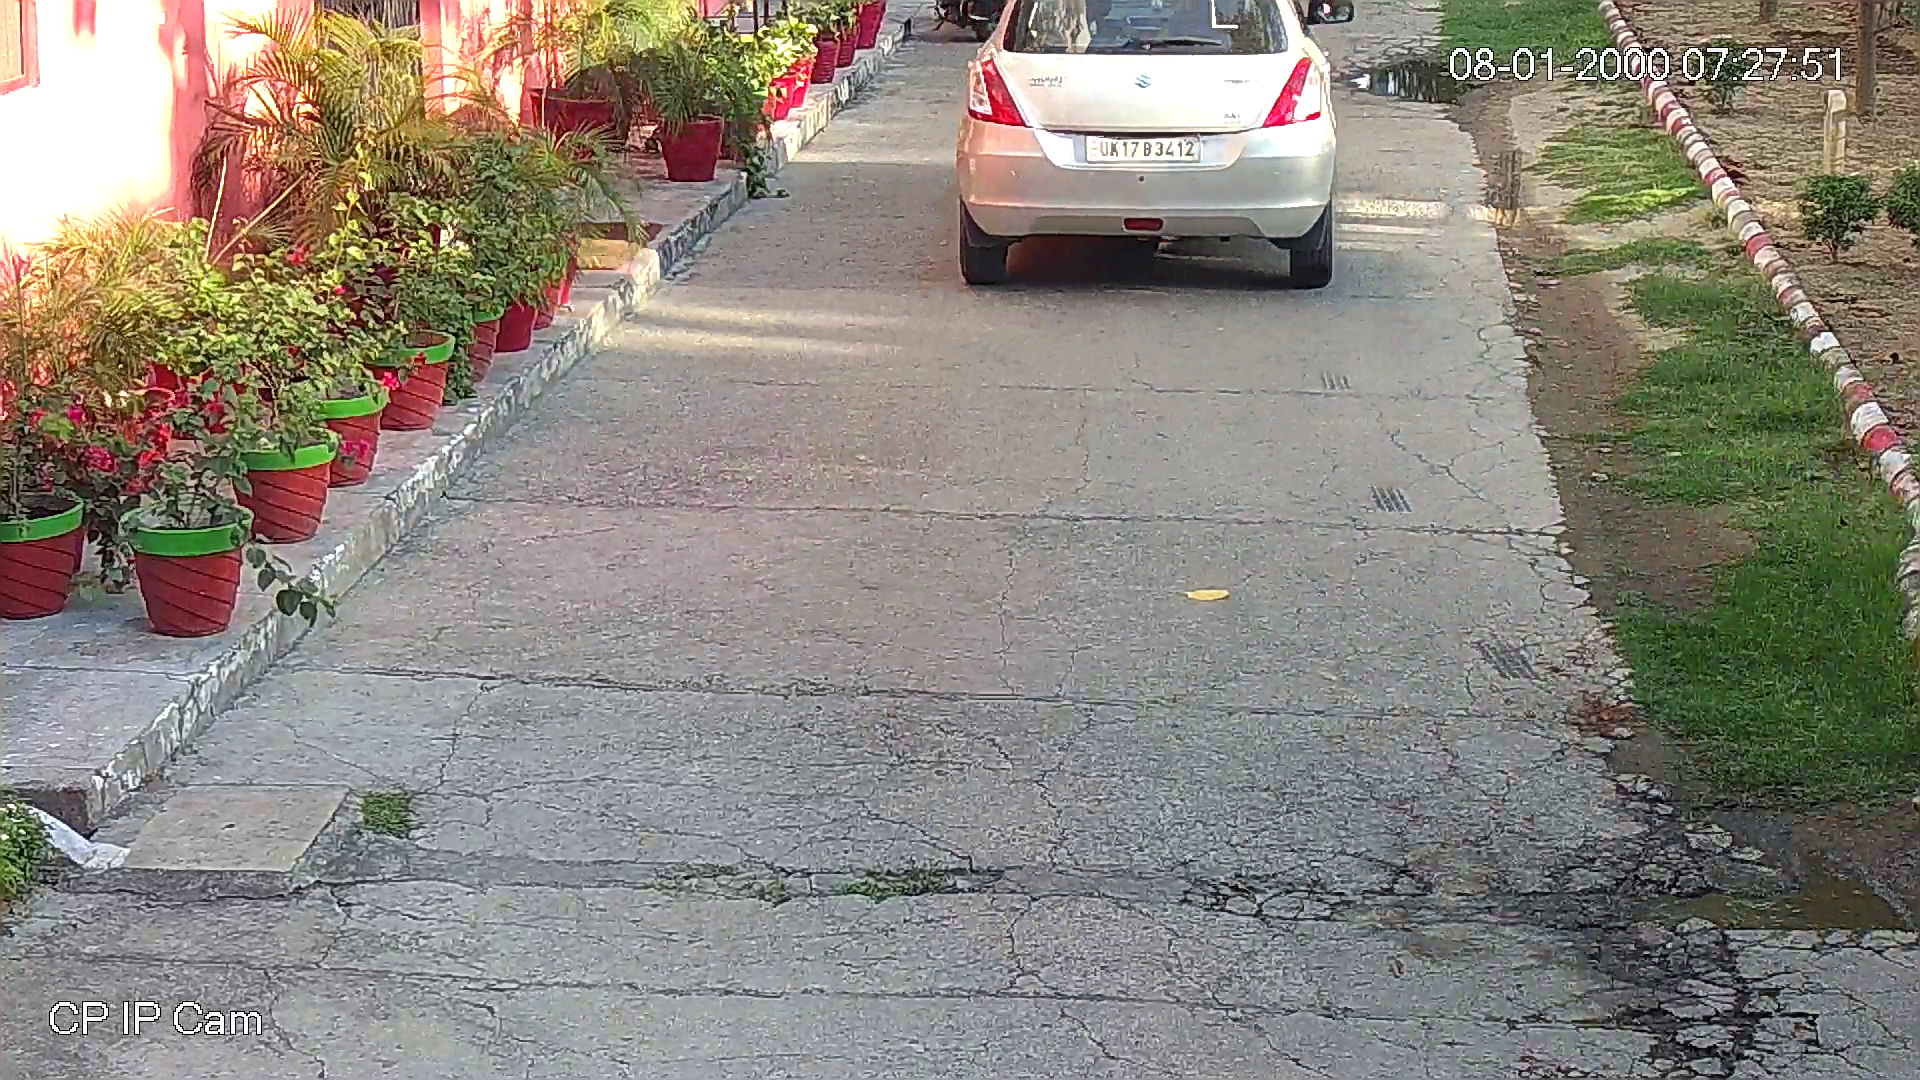plate: (1072, 128, 1212, 168)
